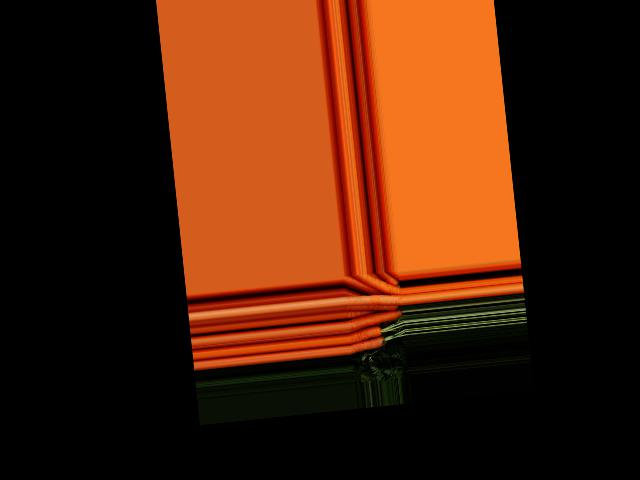carrot: (354, 271, 399, 297)
